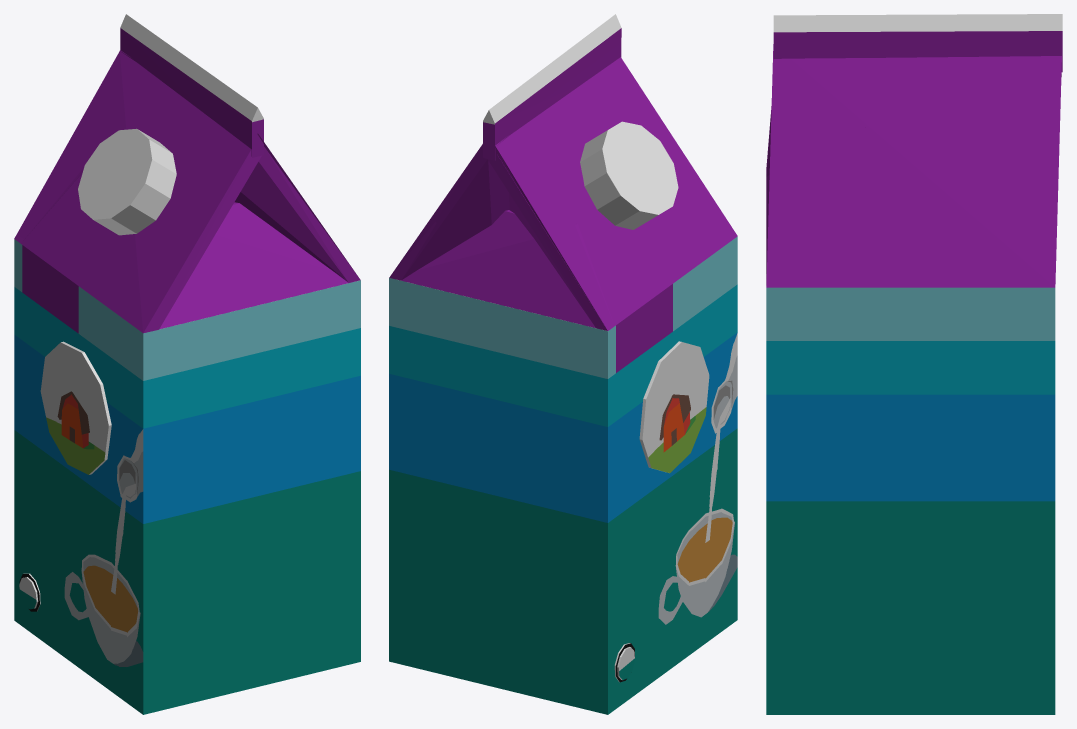
3 renders of one model, left to right at view 1: azimuth 30°, elevation 25°; view 2: azimuth 150°, elevation 25°; view 3: azimuth 270°, elevation 25°, orthographic. The views are drawn at different scales.
Visible parts, largest first — view 1: node_MeshObject-1073701888-PolyPaper21; view 2: node_MeshObject-1073701888-PolyPaper21; view 3: node_MeshObject-1073701888-PolyPaper21.
Part boxes in pixels (x1,y1,x2,y2): node_MeshObject-1073701888-PolyPaper21: [14, 14, 360, 714]; node_MeshObject-1073701888-PolyPaper21: [389, 14, 737, 714]; node_MeshObject-1073701888-PolyPaper21: [766, 14, 1062, 714].
Size of the model in its own units: 0.377 by 0.9362 by 0.39.
